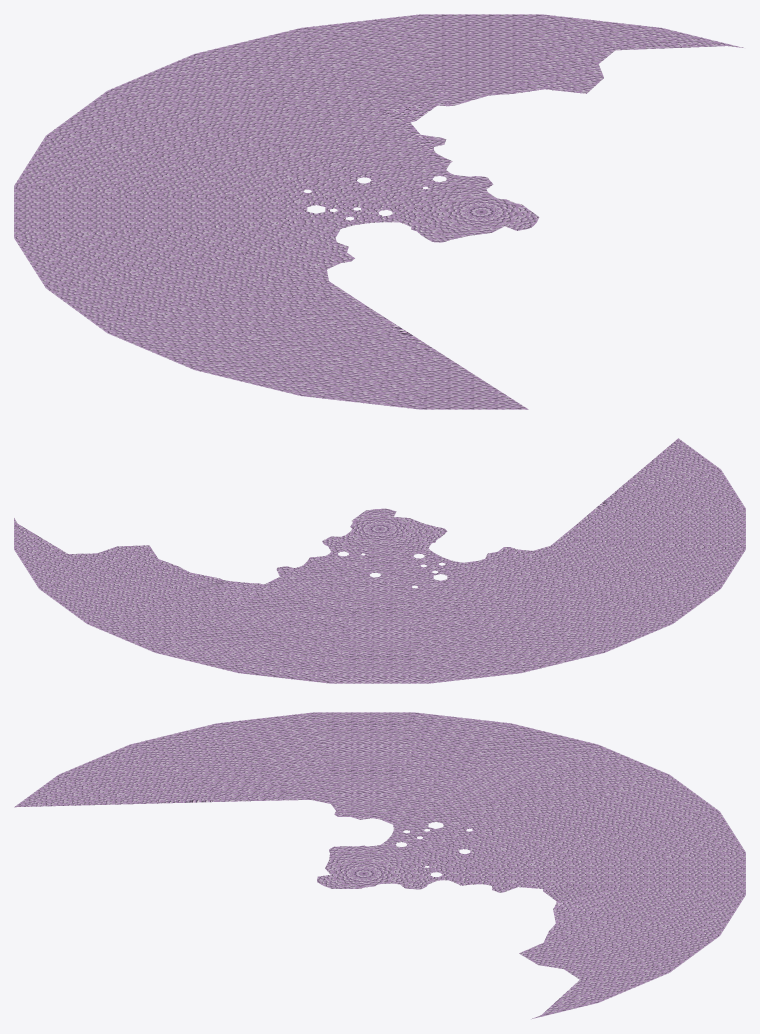
The model's file is mareseapollutions0.dae.
3 views of the same model, one above another, from view 1: azimuth 30°, elevation 25°; view 2: azimuth 150°, elevation 25°; view 3: azimuth 270°, elevation 25° (orthographic). The views are drawn at different scales.
Parts seen in each view (by area): view 1: m0; view 2: m0; view 3: m0.
Boxes of the visible parts, x1,y1,x2,y2 form: m0: (14,14,743,409); m0: (14,438,745,683); m0: (14,712,745,1019).
Bounding box in the file's own units: 60402 × 143 × 60811.
Materials: 1 (1 with a texture image).
